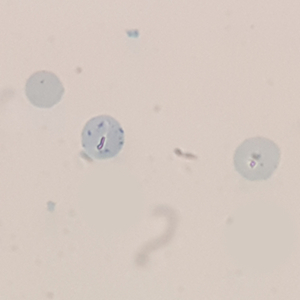aggregate reticulocyte: (79, 114, 126, 161)
erythrocyte: (231, 136, 283, 183)
punctate reticulocyte: (23, 69, 66, 110)
